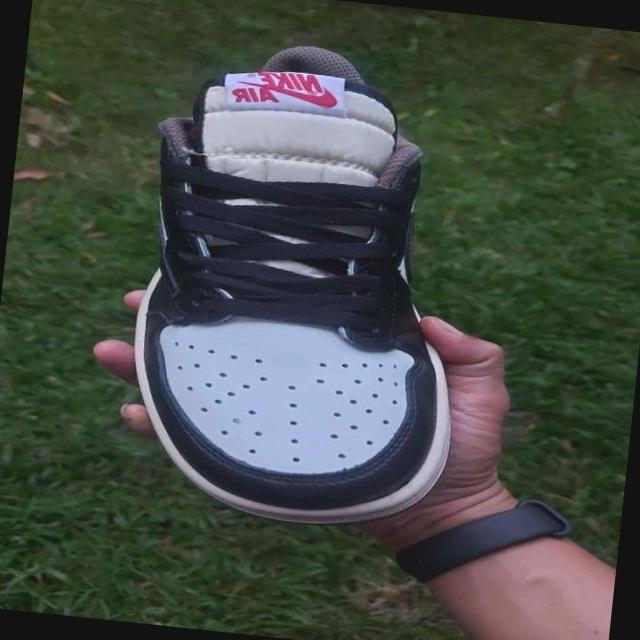nike_fake_jordan: (105, 24, 500, 542)
